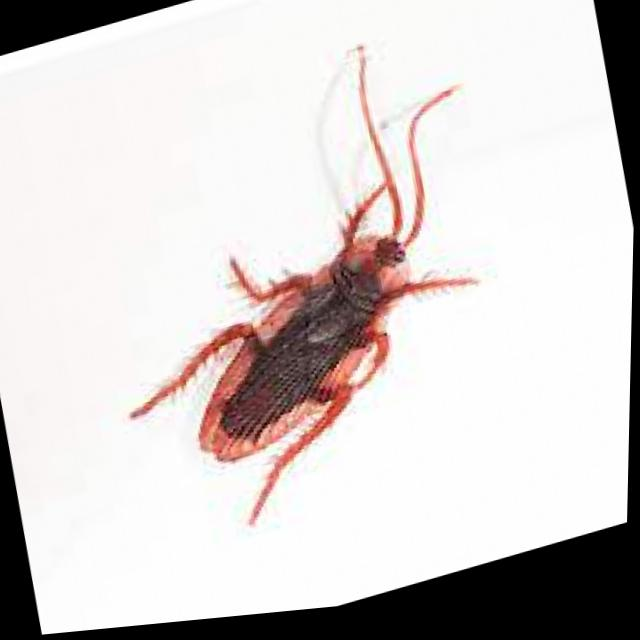Cockroach: (66, 82, 602, 579)
